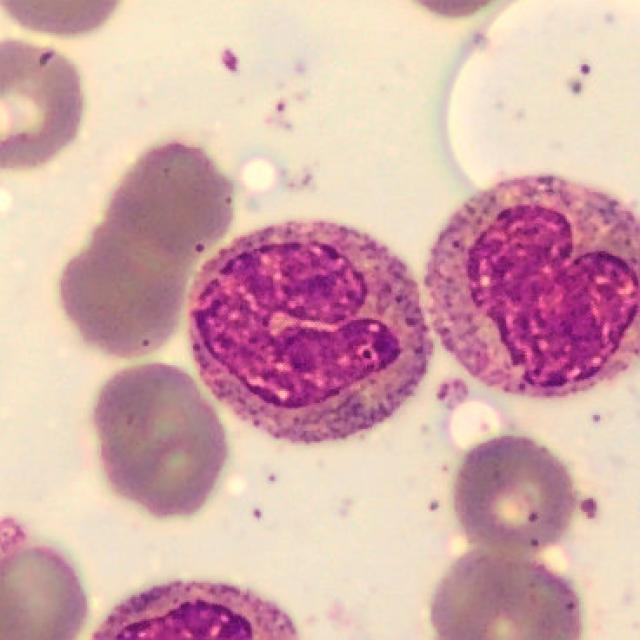Bastonete: (186, 218, 433, 450)
